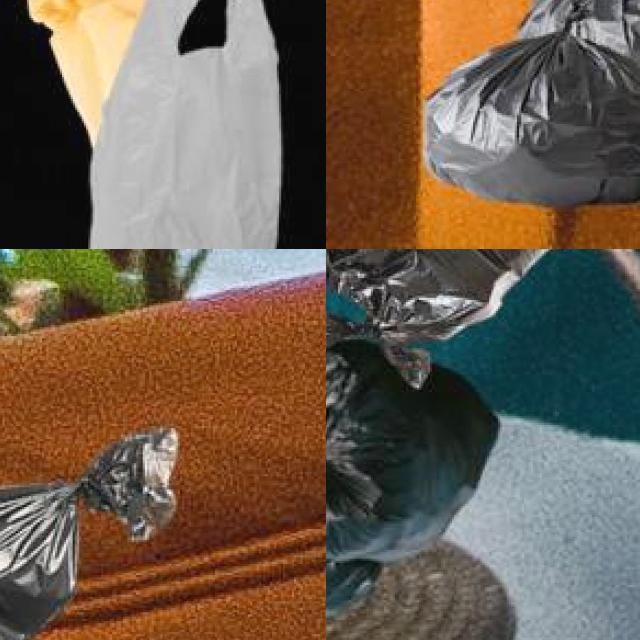waste: (94, 0, 274, 249), (466, 0, 640, 232), (326, 349, 494, 553), (326, 249, 588, 369), (0, 465, 81, 640), (326, 469, 385, 639)
